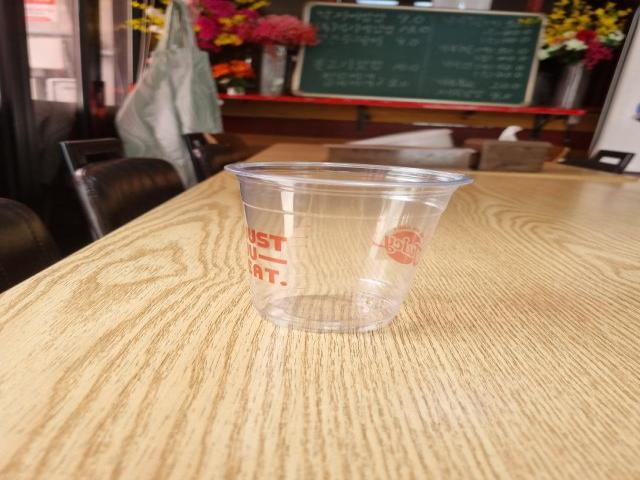cup: (216, 154, 477, 341)
